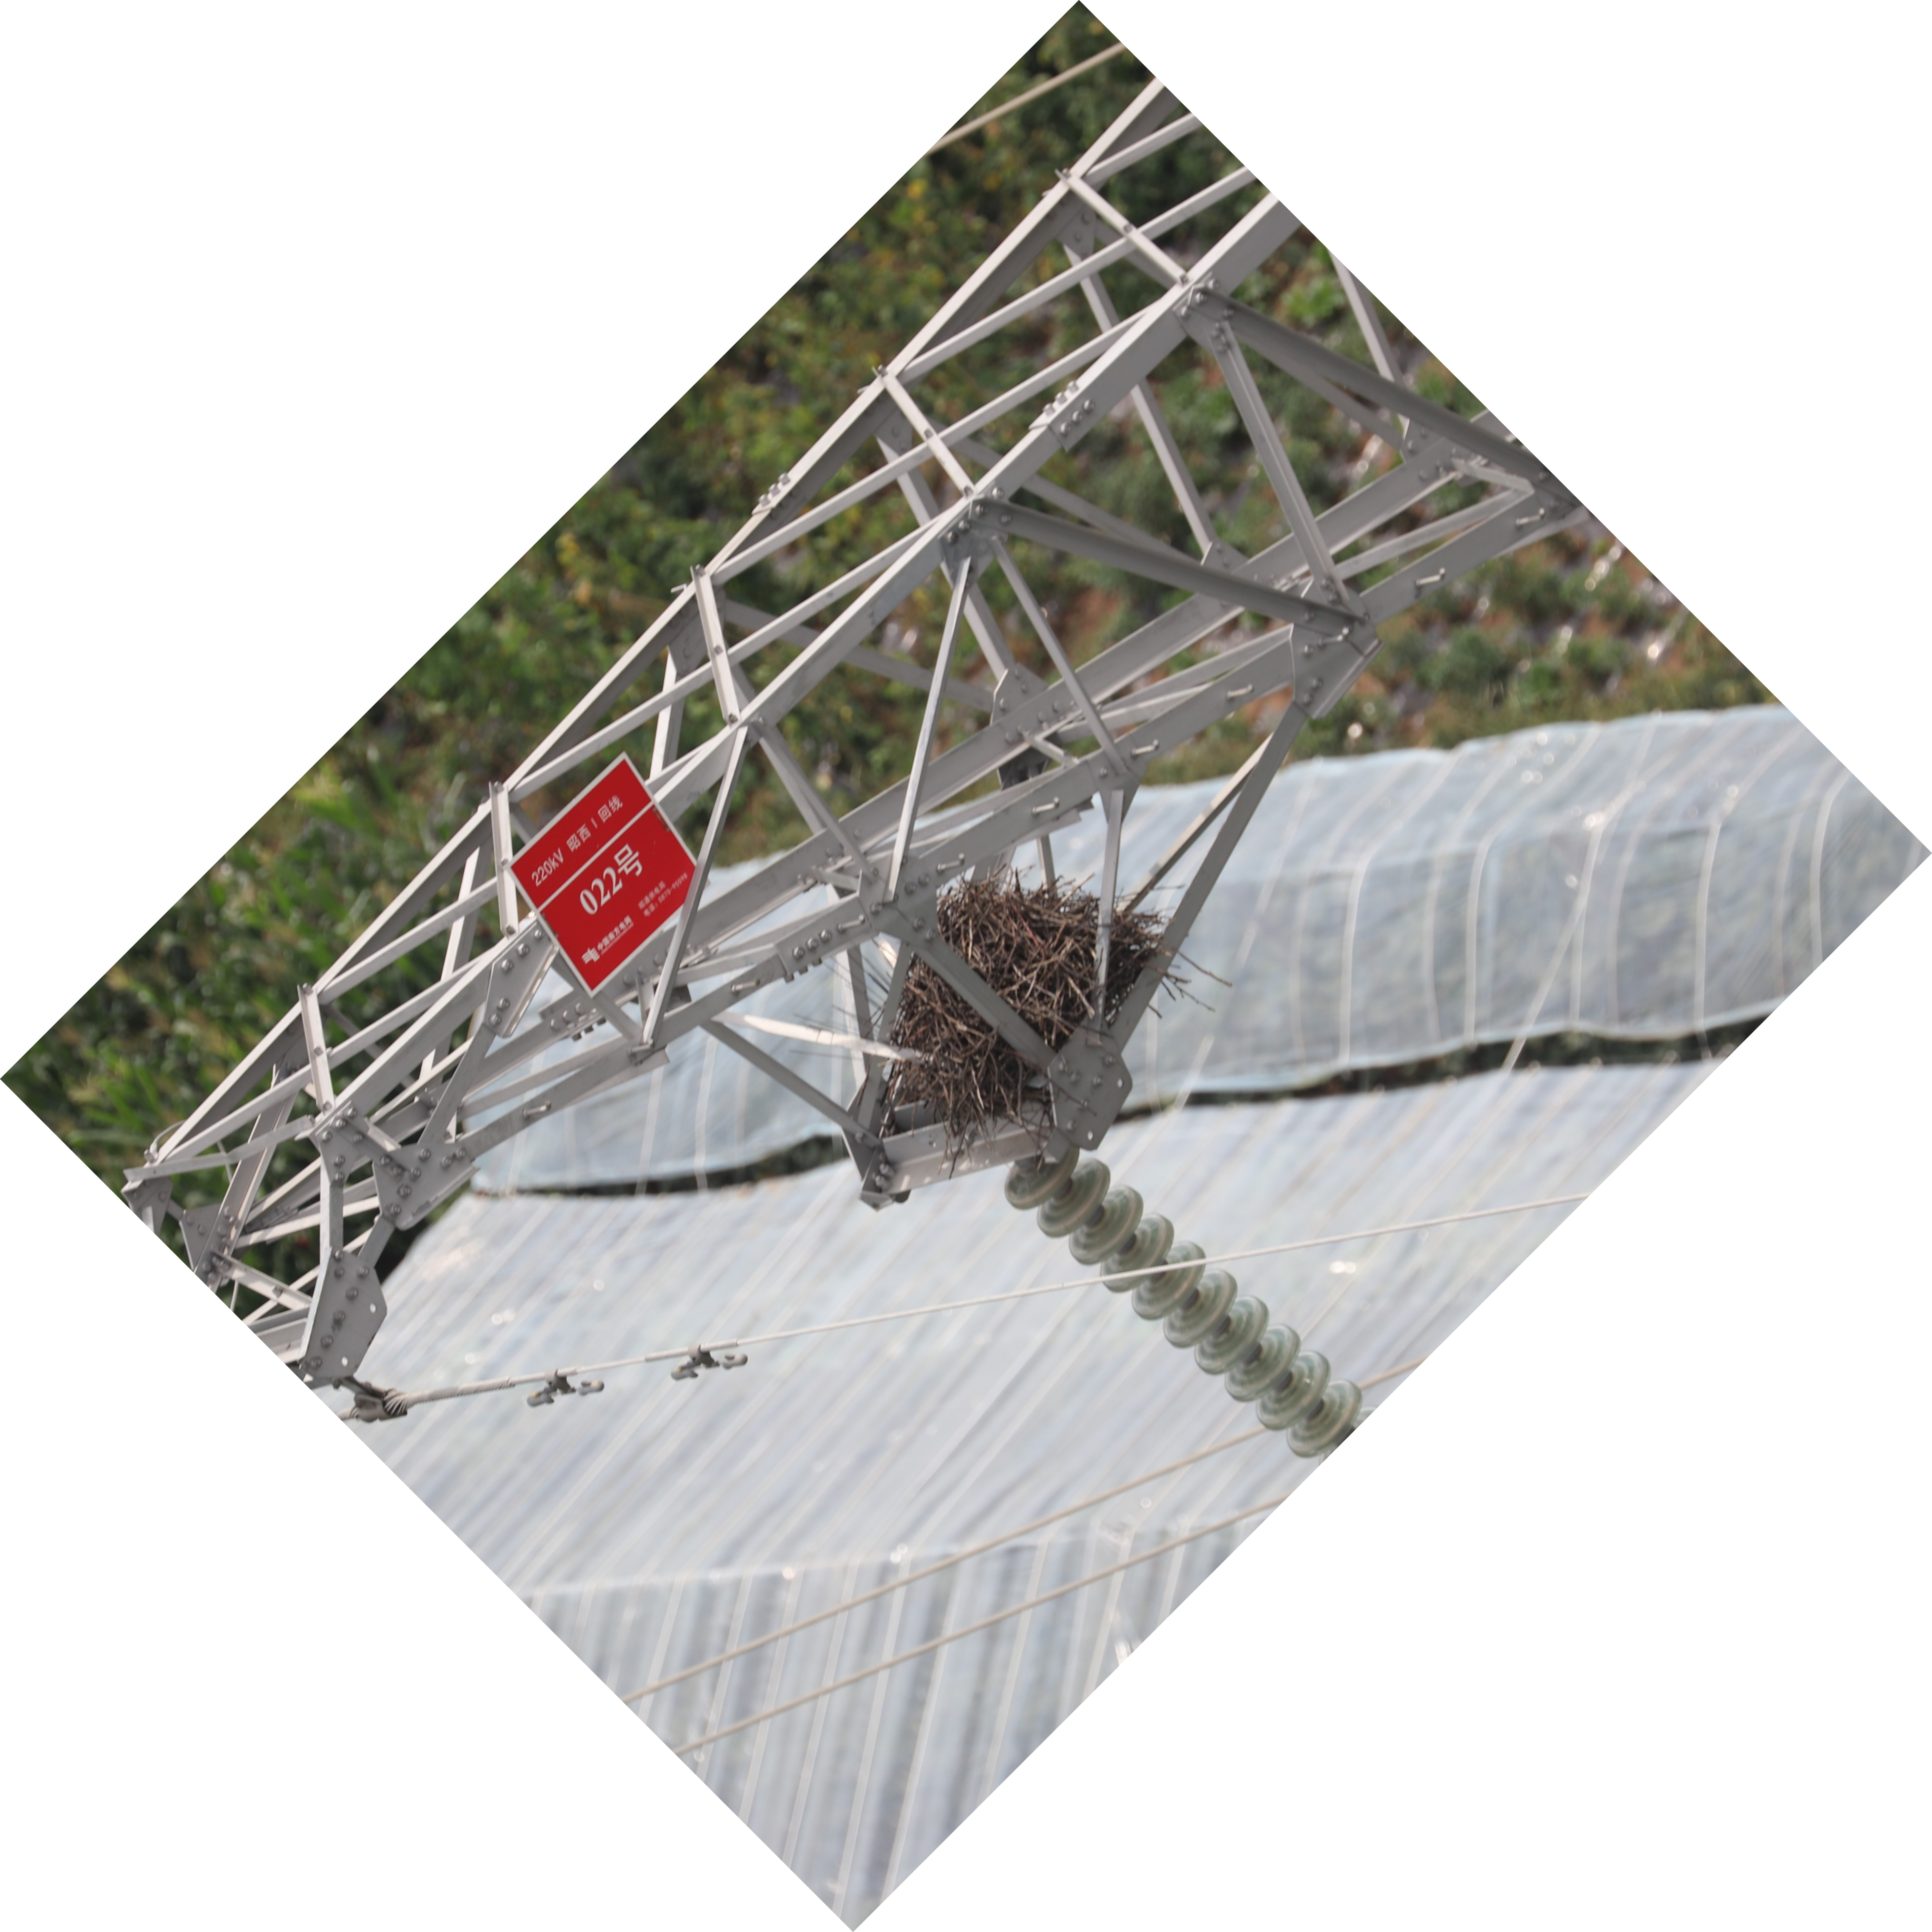niaowo: (835, 862, 1182, 1138)
